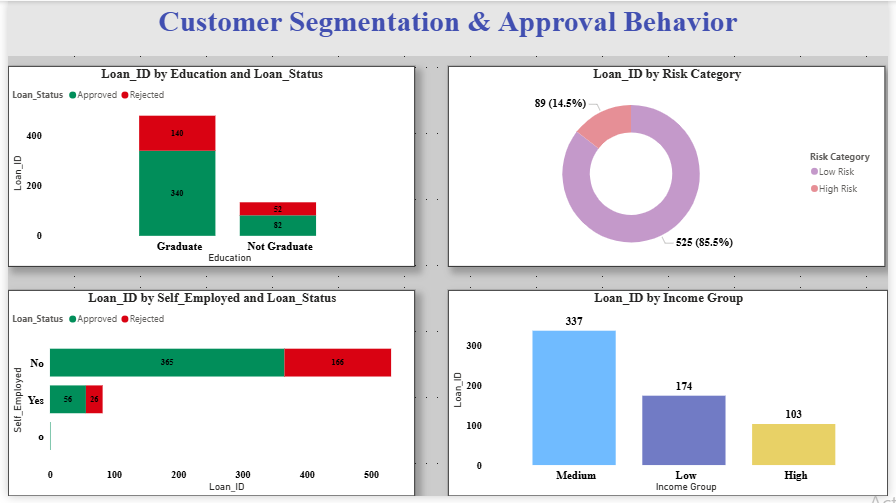

What the dashboard file says about the page in this screenshot:
{"tool":"powerbi","page":{"name":"Customer Segmentation","canvas":[1280,720],"ordinal":2},"visuals":[{"type":"columnChart","fields":{"Category":["Loan_cleaned_File.Education"],"Y":["CountNonNull(Loan_cleaned_File.Loan_ID)"],"Series":["Loan_cleaned_File.Loan_Status"]},"box":[0,94.5,592,292.4],"z":0},{"type":"barChart","fields":{"Category":["Loan_cleaned_File.Self_Employed"],"Y":["CountNonNull(Loan_cleaned_File.Loan_ID)"],"Series":["Loan_cleaned_File.Loan_Status"]},"box":[0,420.4,592,299.6],"z":1000},{"type":"actionButton","box":[0,0,100,40],"z":2000},{"type":"clusteredColumnChart","fields":{"Category":["Loan_cleaned_File.Income Group"],"Y":["CountNonNull(Loan_cleaned_File.Loan_ID)"]},"box":[640,420.4,640,299.6],"z":3000},{"type":"donutChart","title":"Loan_ID by Risk Category","fields":{"Category":["Loan_cleaned_File.Risk Category"],"Y":["CountNonNull(Loan_cleaned_File.Loan_ID)"]},"box":[640,94.5,635.6,292.4],"z":4000},{"type":"textbox","box":[0,0,1280,80],"z":5000}]}

Visuals, with their boxes in screenshot pixels (x1, y1, x2, y2), scaled from the page's 1280x720 canvas onto the 896x503 screenshot:
columnChart - Loan_cleaned_File.Education x CountNonNull(Loan_cleaned_File.Loan_ID): box(0, 66, 414, 270)
barChart - Loan_cleaned_File.Self_Employed x CountNonNull(Loan_cleaned_File.Loan_ID): box(0, 294, 414, 502)
actionButton: box(0, 0, 70, 28)
clusteredColumnChart - Loan_cleaned_File.Income Group x CountNonNull(Loan_cleaned_File.Loan_ID): box(448, 294, 895, 502)
"Loan_ID by Risk Category" donutChart: box(448, 66, 893, 270)
textbox: box(0, 0, 895, 56)
